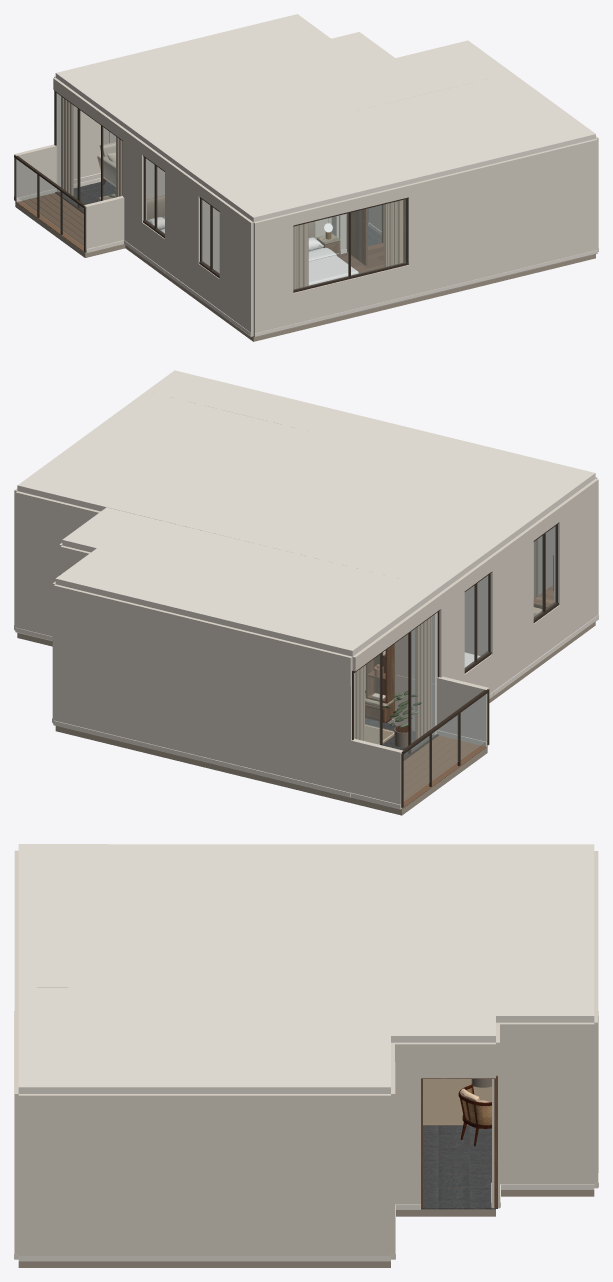
The picture shows the model from 3 angles, top to bottom: view 1: azimuth 30°, elevation 25°; view 2: azimuth 150°, elevation 25°; view 3: azimuth 270°, elevation 25°; orthographic projection. The views are drawn at different scales.
Visible parts, largest first — view 1: Warm white millwork.005, Ivory plaster.001, Ivory plaster, Window glass.001, Linen, Blackened bronze.003, Tile seam, Warm white millwork, Window glass, Retained balcony deck, White linen bedding, Walnut veneer.005 (+4 smaller); view 2: Warm white millwork.005, Ivory plaster.001, Ivory plaster, Window glass.001, Window glass, Tile seam, Linen, Warm white millwork, Blackened bronze.003, Retained balcony deck, Walnut veneer, Blackened bronze.001; view 3: Warm white millwork.005, Ivory plaster.001, Ivory plaster, Honed gray granite floor, Tile seam, Warm white millwork, Taupe wool.001, lambert2SG, Walnut veneer.001.
Part boxes in pixels (x1,y1,x2,y2): Warm white millwork.005: [55, 14, 595, 222]; Ivory plaster.001: [14, 76, 598, 294]; Ivory plaster: [14, 136, 598, 337]; Window glass.001: [56, 93, 406, 289]; Linen: [61, 96, 403, 289]; Blackened bronze.003: [54, 90, 408, 292]; Tile seam: [15, 202, 595, 341]; Warm white millwork: [14, 178, 598, 336]; Window glass: [16, 159, 83, 246]; Retained balcony deck: [15, 193, 85, 252]; White linen bedding: [147, 216, 358, 285]; Walnut veneer.005: [346, 208, 367, 265]; Warm white millwork.005: [17, 370, 595, 656]; Ivory plaster.001: [14, 477, 598, 757]; Ivory plaster: [14, 564, 598, 809]; Window glass.001: [354, 526, 555, 751]; Window glass: [404, 694, 486, 800]; Tile seam: [17, 622, 595, 815]; Linen: [354, 539, 538, 740]; Warm white millwork: [14, 614, 598, 809]; Blackened bronze.003: [352, 522, 558, 754]; Retained balcony deck: [401, 735, 487, 809]; Walnut veneer: [365, 644, 394, 703]; Blackened bronze.001: [401, 689, 489, 807]; Warm white millwork.005: [18, 844, 594, 1093]; Ivory plaster.001: [14, 850, 598, 1200]; Ivory plaster: [14, 1113, 598, 1261]; Honed gray granite floor: [421, 1125, 495, 1209]; Tile seam: [18, 1190, 594, 1267]; Warm white millwork: [14, 1011, 598, 1261]; Taupe wool.001: [423, 1079, 491, 1125]; lambert2SG: [458, 1084, 491, 1146]; Walnut veneer.001: [421, 1075, 497, 1208].
Bounding box in the file's own units: 9.6 × 2.95 × 8.64.
Materials: 37 (7 with a texture image).
